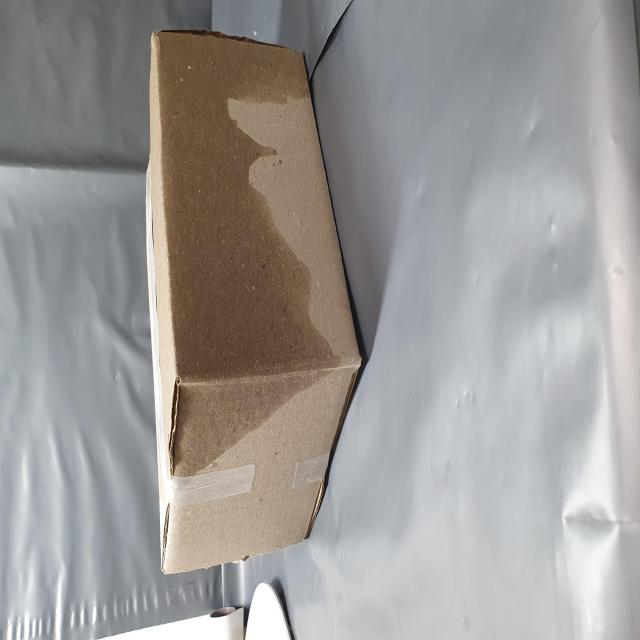wet: (88, 261, 343, 609)
